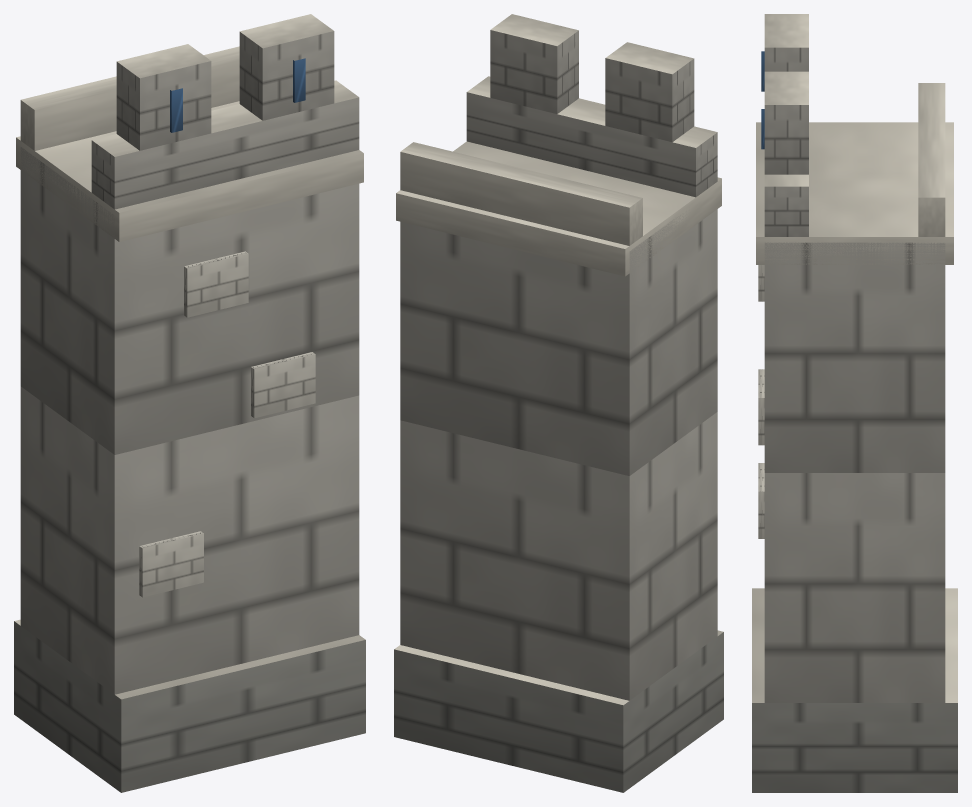
The model's file is wall_stone_straight_01.glb.
The picture shows the model from 3 angles, left to right: view 1: azimuth 30°, elevation 25°; view 2: azimuth 150°, elevation 25°; view 3: azimuth 270°, elevation 25°; orthographic projection. The views are drawn at different scales.
Visible parts, largest first — view 1: wall_stone_straight_01; view 2: wall_stone_straight_01; view 3: wall_stone_straight_01.
Boxes of the visible parts, bbox=[...] form: wall_stone_straight_01: bbox=[14, 14, 365, 792]; wall_stone_straight_01: bbox=[394, 14, 723, 792]; wall_stone_straight_01: bbox=[752, 14, 957, 792].
Bounding box in the file's own units: 2.19 × 6.02 × 1.66.
Materials: 1 (1 with a texture image).
